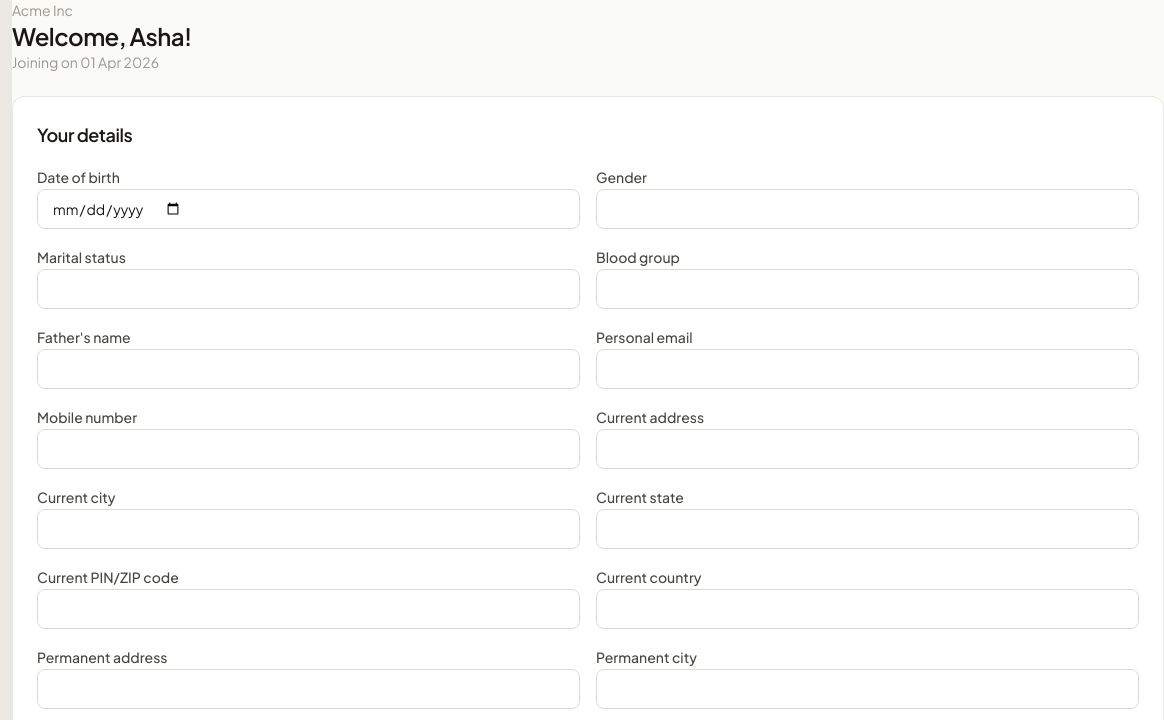
Test: PreOnboardingPortalPage › saves personal details
The image size is (1164, 720).
Check: the heading "Welcome, Asha!" is shown, box [12,20,192,52]
Type "9999999999" into the field labelled "Mobile number" at (308, 449), box [37,429,580,469]
(page scrolled)
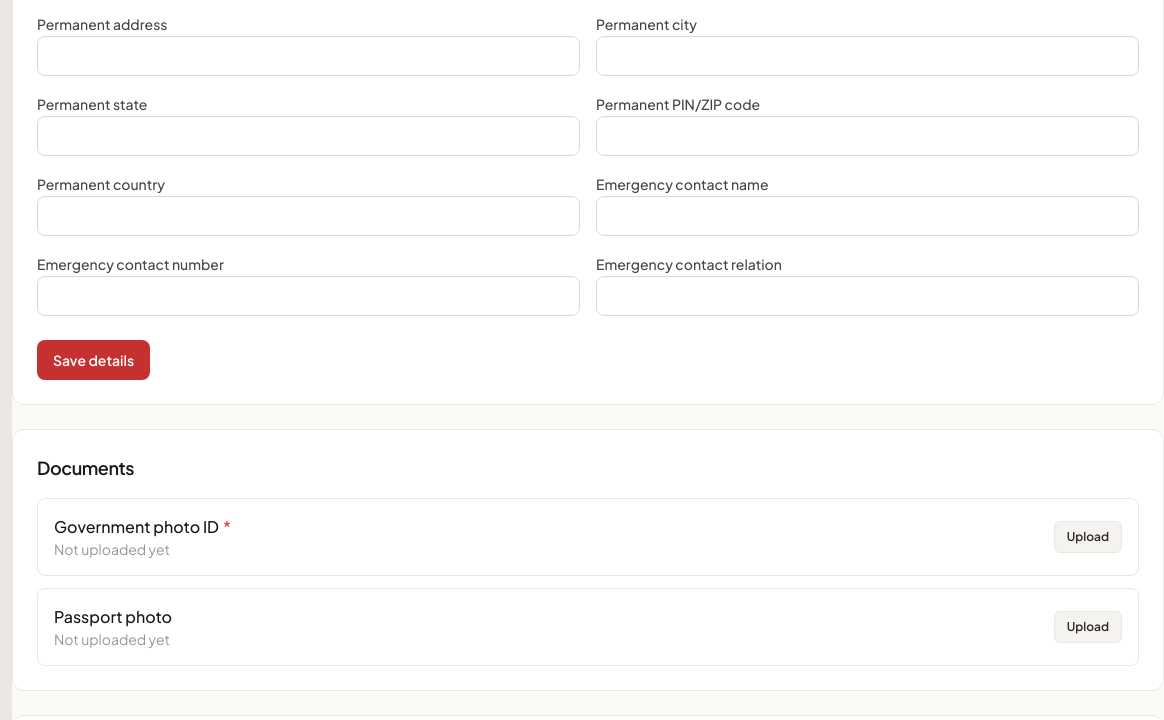
Click the button "Save details" at (94, 360), box [37,340,150,380]
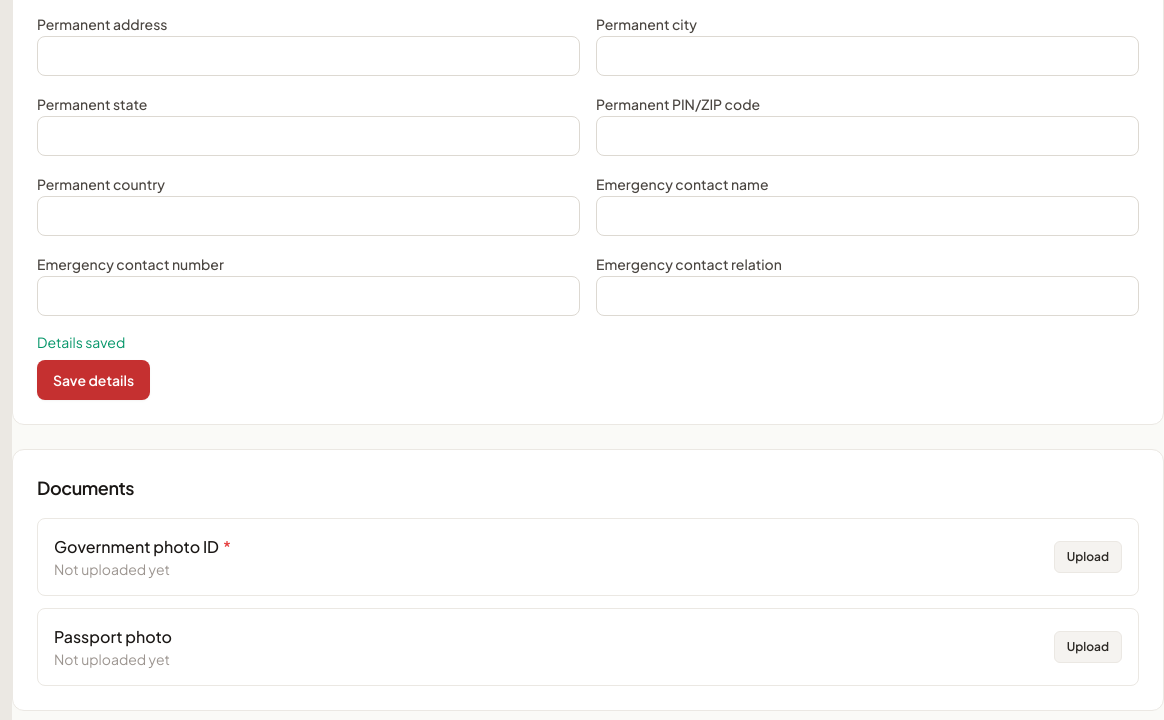
Check: the text "Details saved" is shown, box [37,333,125,351]
